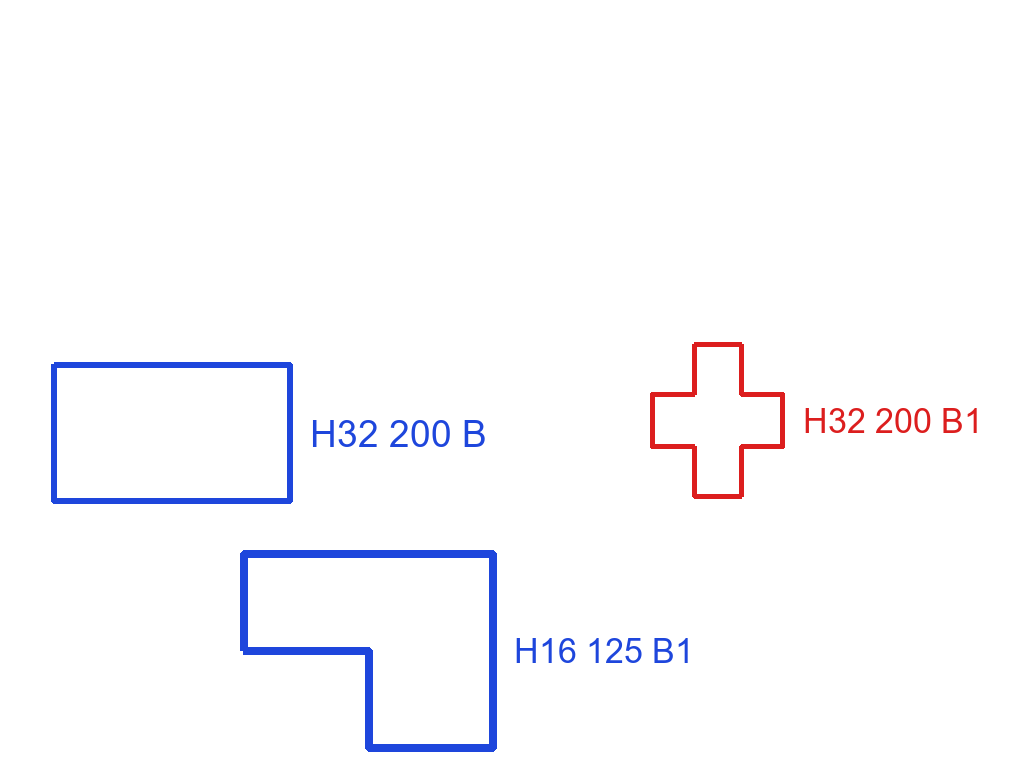shape: (238, 548, 500, 754), (50, 360, 295, 507), (648, 340, 787, 501)
text: (308, 418, 489, 449), (801, 406, 985, 435), (512, 636, 696, 665)
